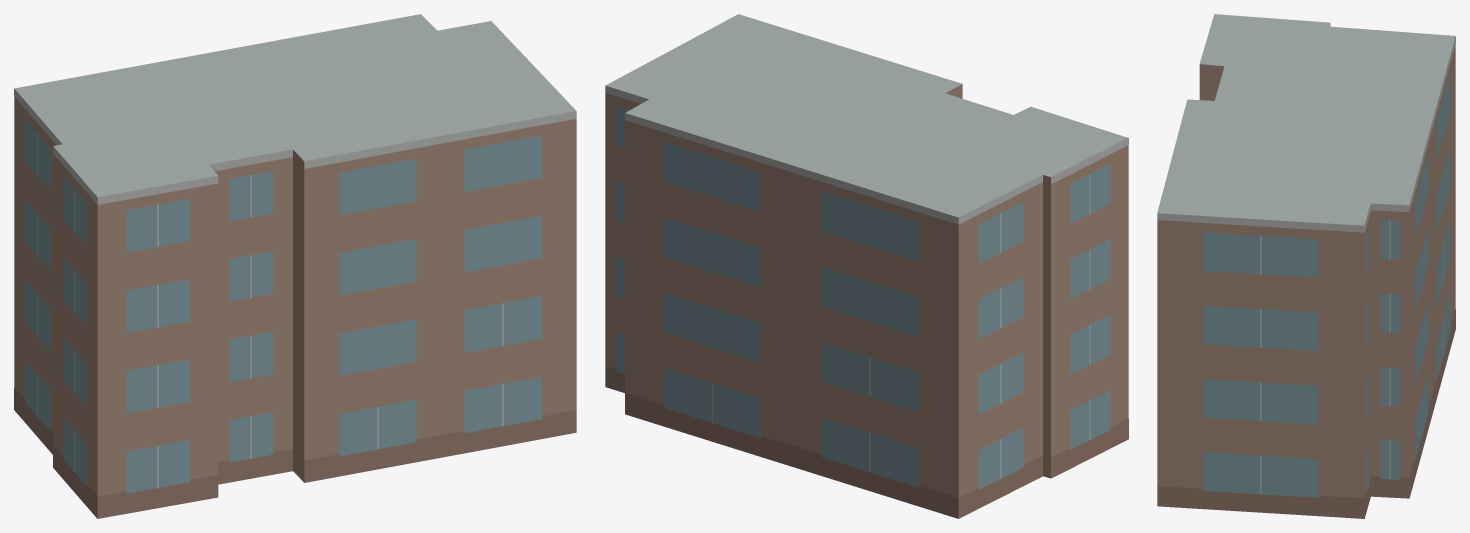
The model's file is survey-upis-32873771.glb.
3 renders of one model, left to right at view 1: azimuth 30°, elevation 25°; view 2: azimuth 150°, elevation 25°; view 3: azimuth 270°, elevation 25°, orthographic. The views are drawn at different scales.
Parts seen in each view (by area): view 1: survey-upis-32873771.tmp; view 2: survey-upis-32873771.tmp; view 3: survey-upis-32873771.tmp.
Part boxes in pixels (bbox=[...]): survey-upis-32873771.tmp: bbox=[14, 14, 576, 518]; survey-upis-32873771.tmp: bbox=[605, 14, 1128, 518]; survey-upis-32873771.tmp: bbox=[1157, 14, 1455, 518].
Size of the model in its own units: 15.97 by 10.3 by 9.52.
